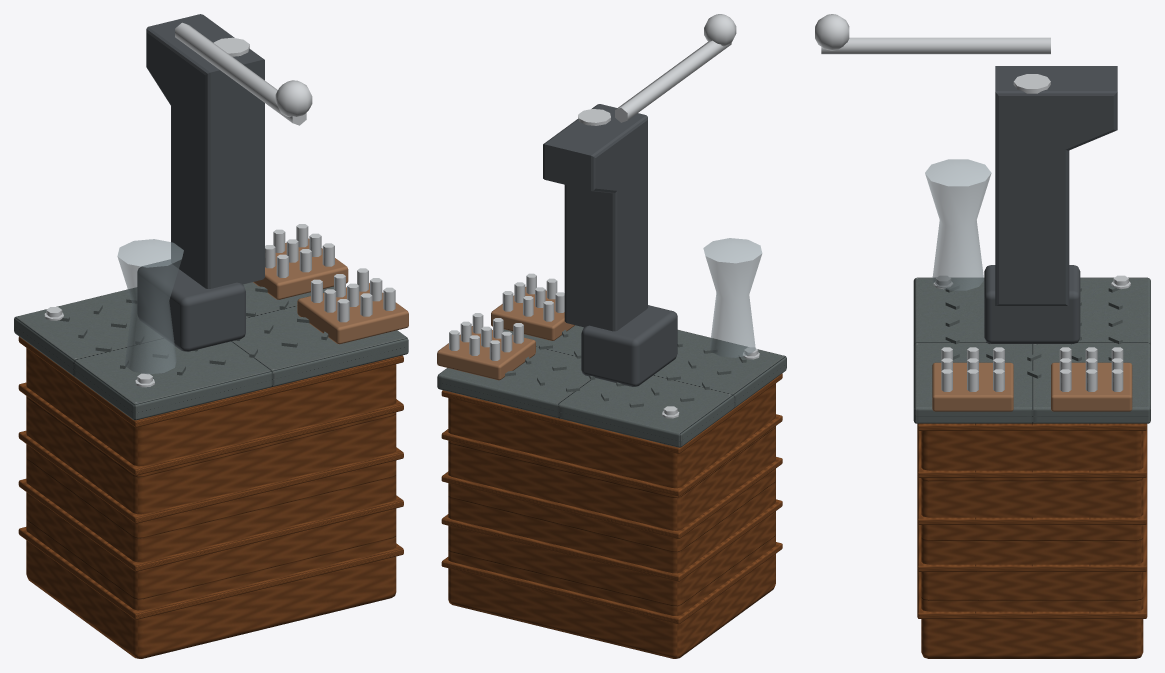
File: fps-survival-forest-outpost-ammunition-press-dcc61975__32634.glb
The picture shows the model from 3 angles, left to right: view 1: azimuth 30°, elevation 25°; view 2: azimuth 150°, elevation 25°; view 3: azimuth 270°, elevation 25°; orthographic projection. The views are drawn at different scales.
Visible parts, largest first — view 1: ammunition-press, lever; view 2: ammunition-press, lever; view 3: ammunition-press, lever.
Boxes of the visible parts, box(x1,y1,x2,y2) form: ammunition-press: box(14, 14, 408, 658); lever: box(175, 22, 312, 125); ammunition-press: box(437, 104, 786, 658); lever: box(615, 14, 736, 122); ammunition-press: box(913, 66, 1150, 658); lever: box(815, 14, 1050, 54).
Bounding box in the file's own units: 0.87 × 1.71 × 0.9064.
Materials: 6 (2 with a texture image).
